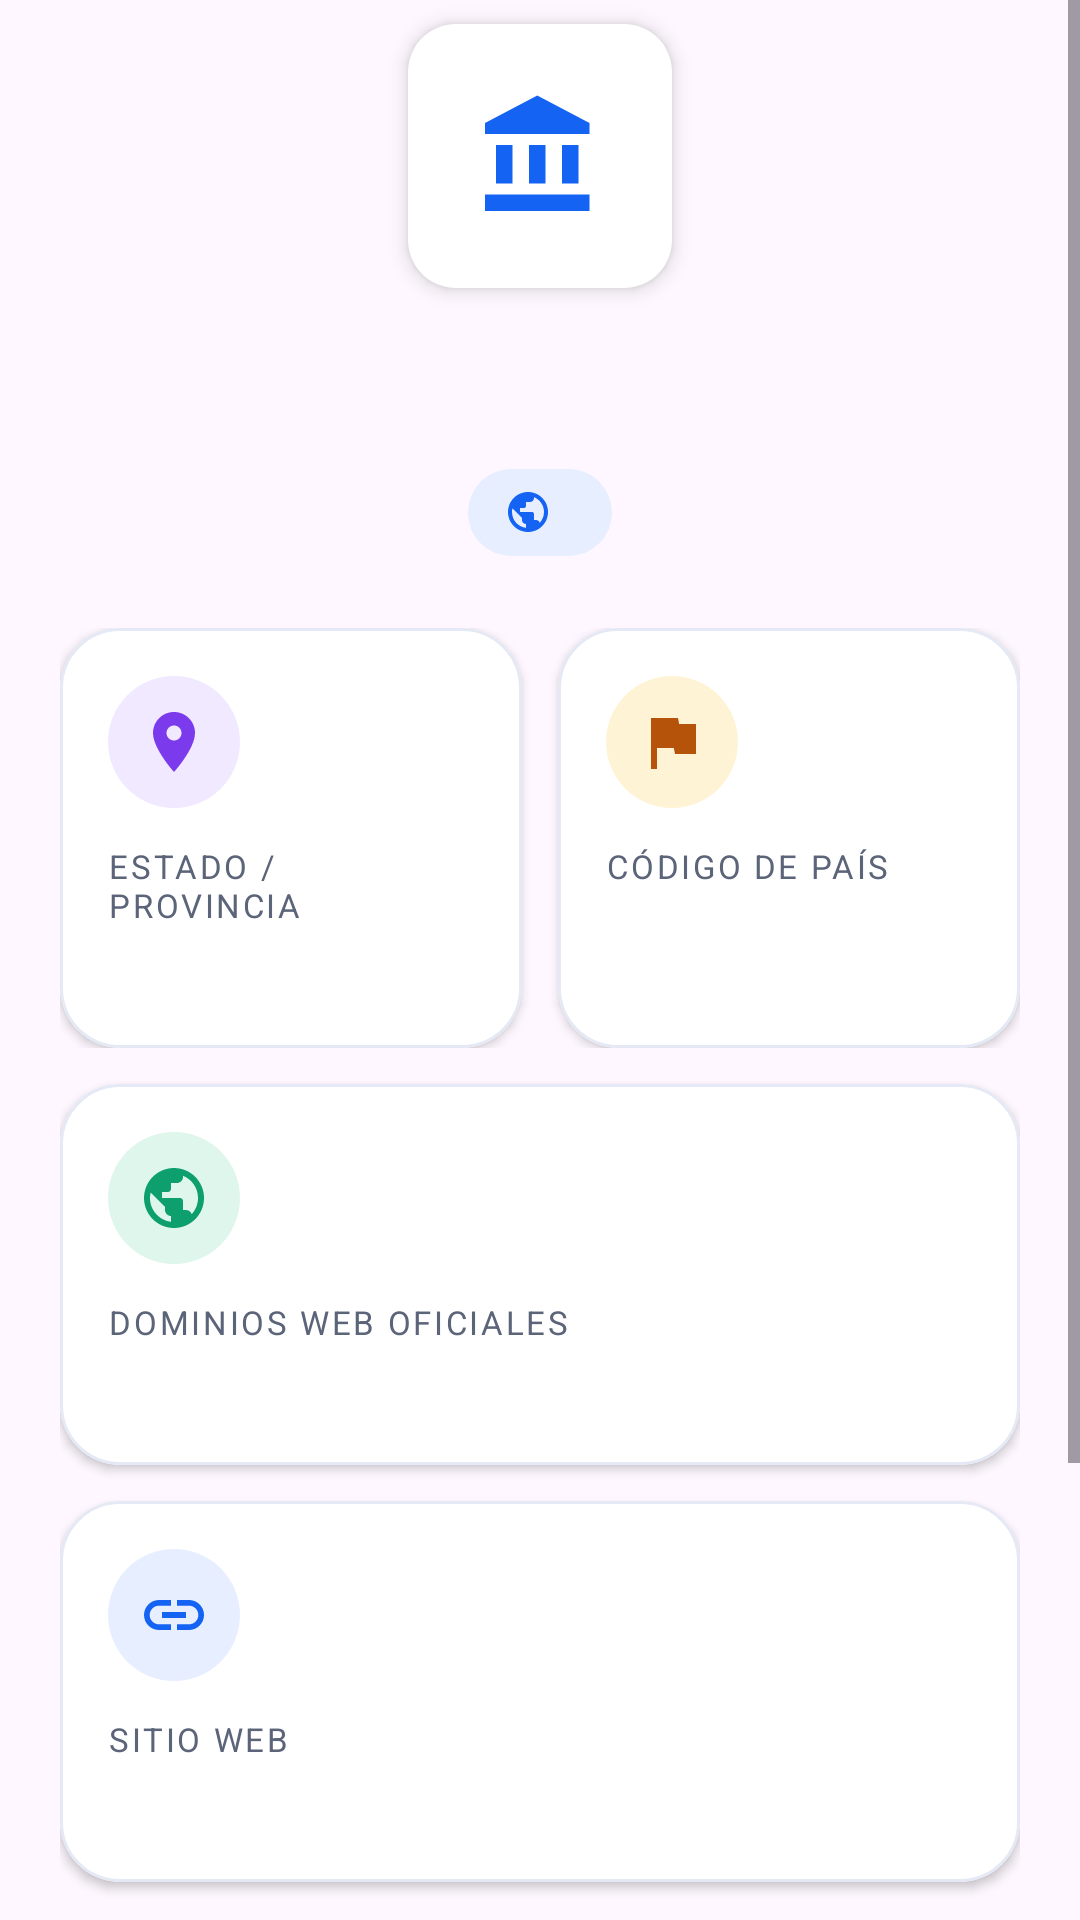

Screen size 1080*1920. Icon name, then its center in pixels as (x=x, y=y):
flag: (x=672, y=742)
globe: (x=174, y=1198)
link: (x=174, y=1615)
location: (x=174, y=742)
university: (x=537, y=153)
